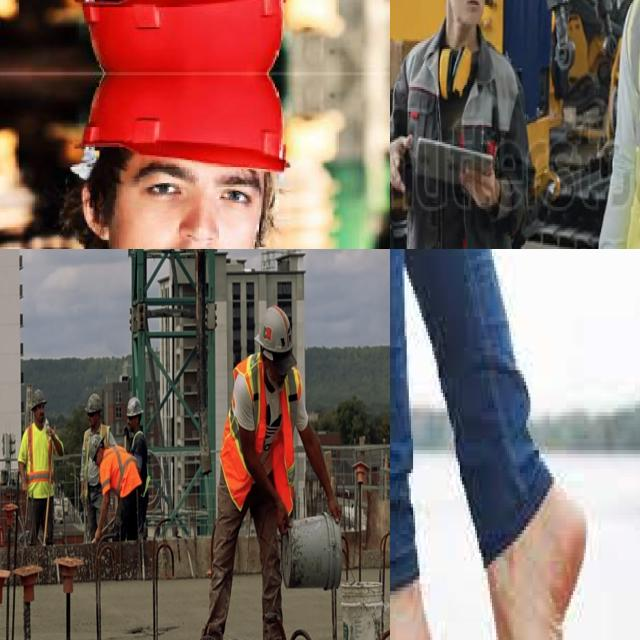Ear-protection: (432, 38, 481, 104)
No_Ear-Protection: (78, 187, 112, 240)
No_Glasses: (122, 155, 267, 216)
Sandals: (475, 466, 589, 640)
face_nomask: (122, 202, 257, 249)
head_helmet: (257, 304, 290, 354), (89, 441, 106, 470), (28, 388, 48, 410), (85, 391, 104, 414), (125, 397, 144, 418)
person: (205, 306, 354, 640), (390, 0, 541, 249), (585, 0, 640, 249), (89, 434, 142, 579), (20, 386, 64, 550), (117, 391, 154, 543), (80, 388, 116, 544)
vest: (222, 352, 298, 531), (98, 426, 146, 497), (20, 421, 53, 500)
